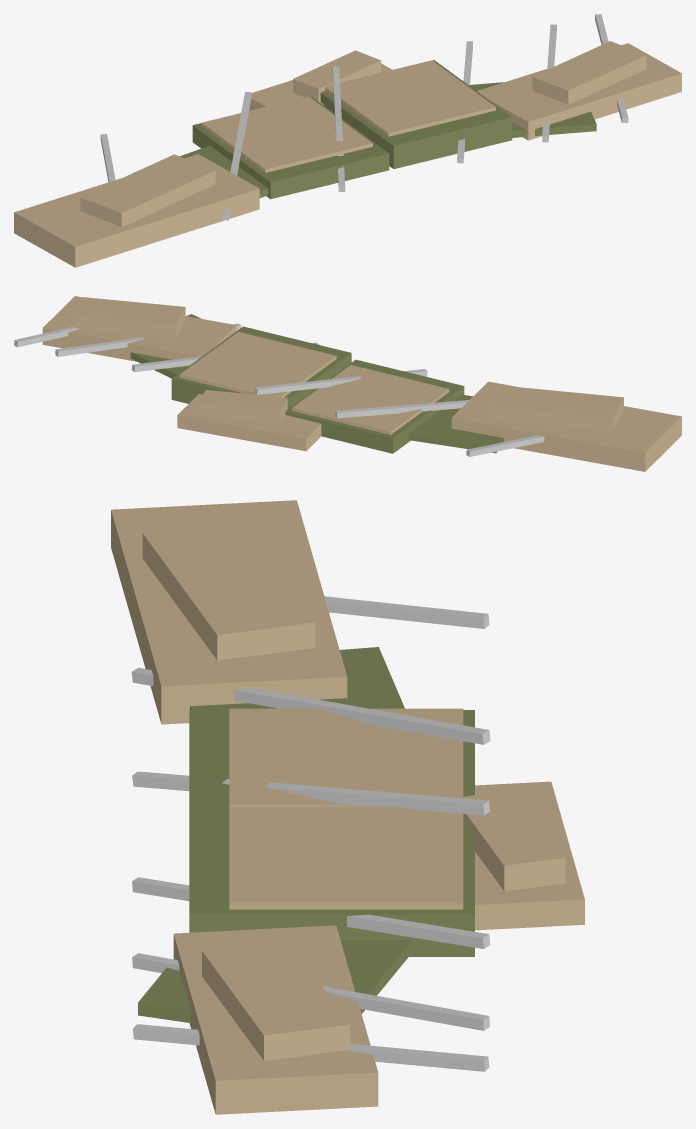
The model's file is SM_HescoCorto2_v2_Escalonado_e3_Brecha_LOD0.fbx.
3 renders of one model, top to bottom at view 1: azimuth 30°, elevation 25°; view 2: azimuth 150°, elevation 25°; view 3: azimuth 270°, elevation 25°, orthographic. The views are drawn at different scales.
Parts seen in each view (by area): view 1: SM_hesco_piezas_v71_LOD0; view 2: SM_hesco_piezas_v71_LOD0; view 3: SM_hesco_piezas_v71_LOD0.
Part boxes in pixels (box(x1,y1,x2,y2)): SM_hesco_piezas_v71_LOD0: box(14, 14, 681, 267); SM_hesco_piezas_v71_LOD0: box(14, 296, 681, 471); SM_hesco_piezas_v71_LOD0: box(111, 500, 584, 1114).
Bounding box in the file's own units: 5.83 × 0.3263 × 2.02.
